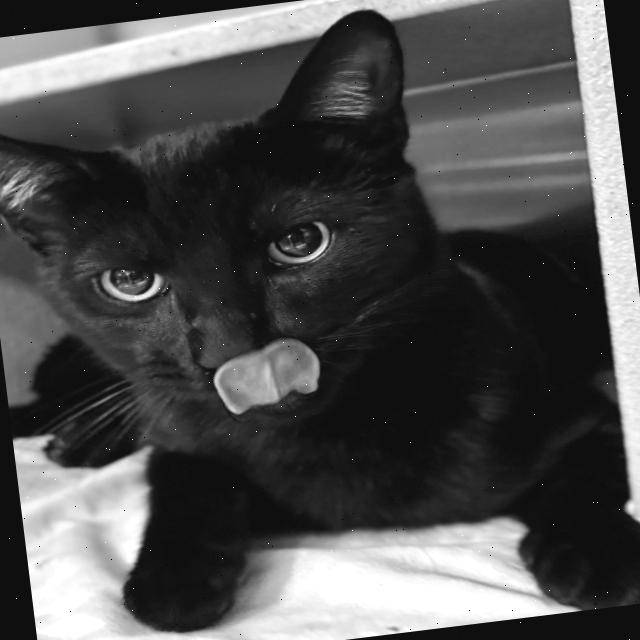bombay_cat: (0, 0, 524, 493)
